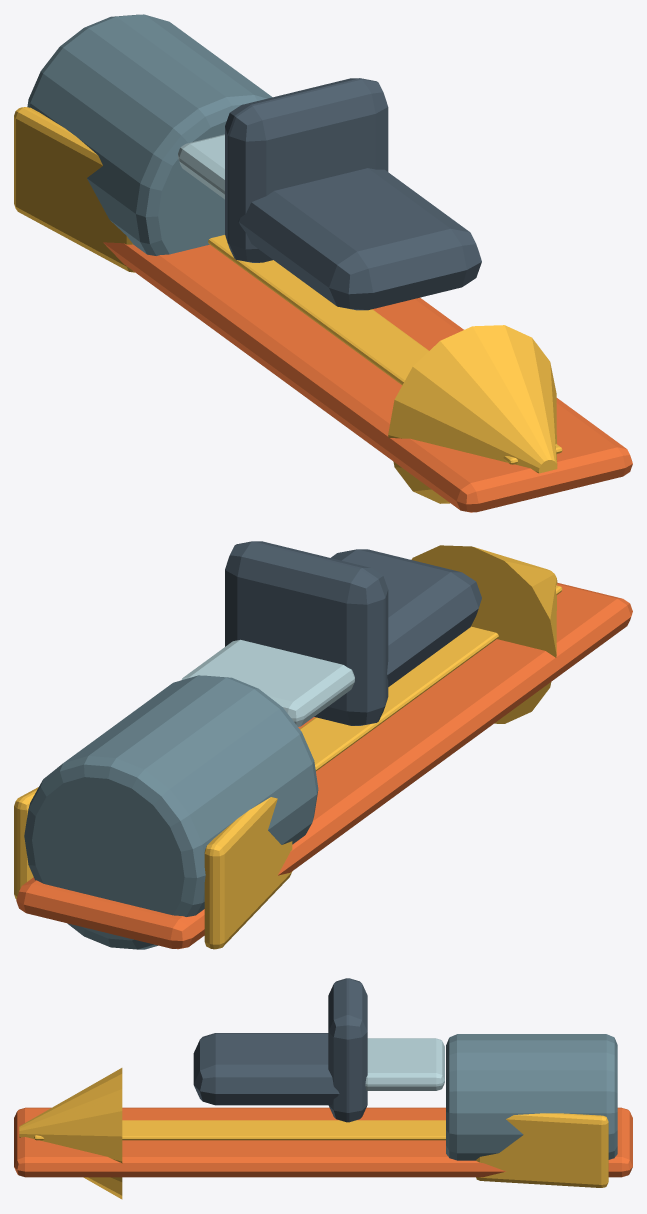
File: rocket-chair-snowboard.glb
3 renders of one model, top to bottom at view 1: azimuth 30°, elevation 25°; view 2: azimuth 150°, elevation 25°; view 3: azimuth 270°, elevation 25°, orthographic. The views are drawn at different scales.
Visible parts, largest first — view 1: RocketDeck, RocketBooster, RocketSeatPan, RocketNose, RocketBack, RocketFinL, RocketDeckStripe, RocketCargoTray; view 2: RocketBooster, RocketDeck, RocketBack, RocketSeatPan, RocketNose, RocketFinL, RocketCargoTray, RocketDeckStripe, RocketFinR; view 3: RocketDeck, RocketBooster, RocketSeatPan, RocketFinR, RocketDeckStripe, RocketNose, RocketBack, RocketCargoTray.
Part boxes in pixels (box(x1,y1,x2,y2)): RocketDeck: box(103, 242, 632, 512); RocketBooster: box(27, 14, 272, 255); RocketSeatPan: box(238, 168, 481, 310); RocketNose: box(388, 325, 557, 503); RocketBack: box(225, 78, 388, 262); RocketFinL: box(14, 107, 134, 272); RocketDeckStripe: box(208, 235, 562, 464); RocketCargoTray: box(178, 134, 224, 199); RocketBooster: box(24, 675, 318, 949); RocketDeck: box(16, 582, 632, 949); RocketBack: box(225, 541, 388, 725); RocketSeatPan: box(331, 549, 481, 686); RocketNose: box(411, 545, 557, 723); RocketFinL: box(204, 797, 292, 949); RocketCargoTray: box(181, 639, 354, 726); RocketDeckStripe: box(300, 585, 562, 770); RocketFinR: box(14, 787, 38, 899); RocketDeck: box(14, 1107, 632, 1177); RocketBooster: box(446, 1034, 617, 1160); RocketSeatPan: box(193, 1033, 339, 1105); RocketFinR: box(476, 1113, 608, 1187); RocketDeckStripe: box(34, 1120, 445, 1140); RocketNose: box(19, 1068, 122, 1199); RocketBack: box(328, 978, 367, 1122); RocketCargoTray: box(365, 1038, 444, 1090).
Size of the model in its own units: 0.669 by 0.885 by 2.52.
